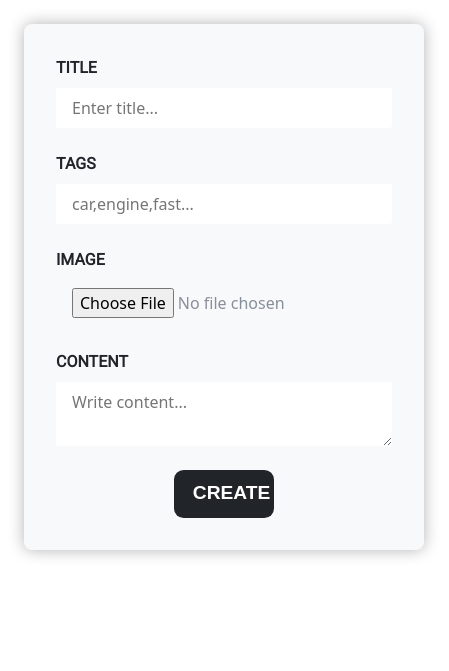
Test case: CreatePost Component › does NOT submit the form with empty data
(page scrolled)
Click the button "Create" at (224, 494), box [174,470,274,518]
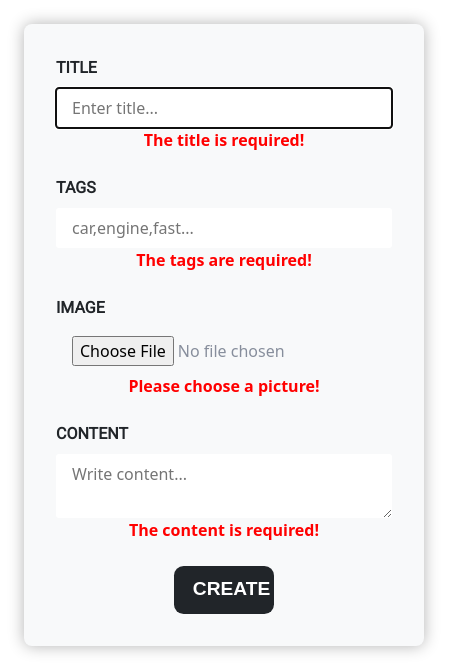
Expected: the text "The title is required!" is shown, [144,129,304,151]
Expected: the text "The tags are required!" is shown, [136,249,312,271]
Expected: the text "Please choose a picture!" is shown, [128,375,320,397]
